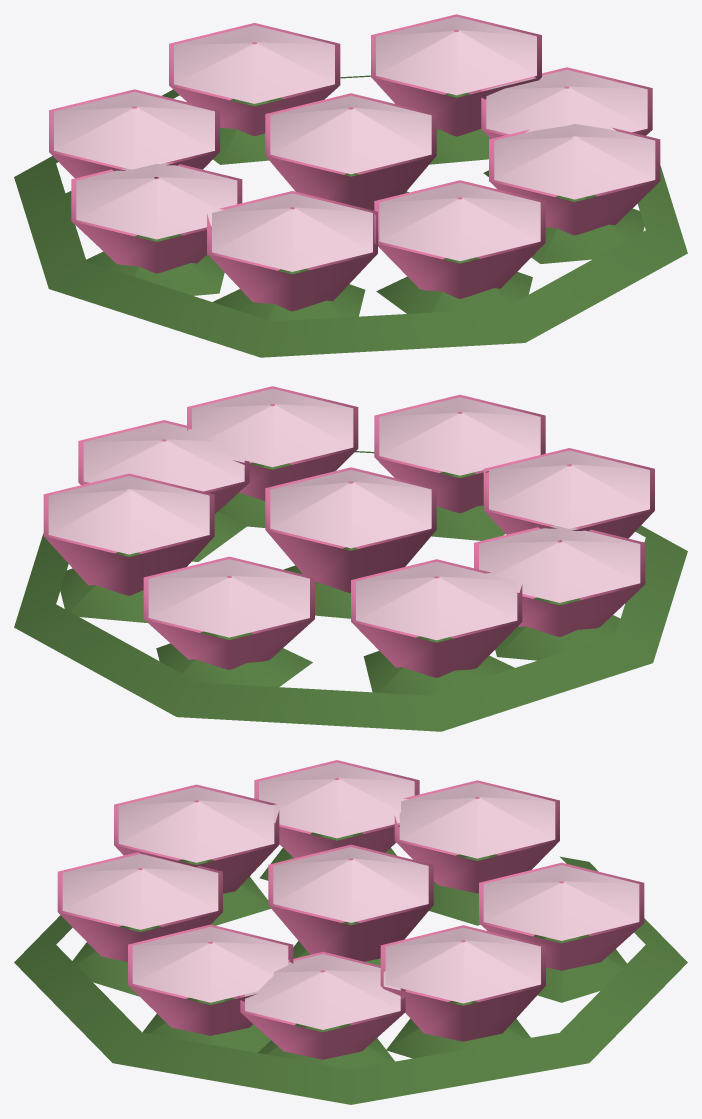
Rendered from flora_08_pink_grass_meadow_patch.glb.
3 views of the same model, one above another, from view 1: azimuth 30°, elevation 25°; view 2: azimuth 150°, elevation 25°; view 3: azimuth 270°, elevation 25° (orthographic). The views are drawn at different scales.
Visible parts, largest first — view 1: Morning_Dew_Snow_Tips, Basal_Meadow_Tufts, Pink_Muhly_Grass_Plumes; view 2: Morning_Dew_Snow_Tips, Basal_Meadow_Tufts, Pink_Muhly_Grass_Plumes; view 3: Morning_Dew_Snow_Tips, Basal_Meadow_Tufts, Pink_Muhly_Grass_Plumes.
Boxes of the visible parts, x1,y1,x2,y2 form: Morning_Dew_Snow_Tips: (54,16,655,271); Basal_Meadow_Tufts: (14,75,687,357); Pink_Muhly_Grass_Plumes: (49,14,660,311); Morning_Dew_Snow_Tips: (48,388,649,640); Basal_Meadow_Tufts: (14,451,687,731); Pink_Muhly_Grass_Plumes: (43,386,654,677); Morning_Dew_Snow_Tips: (62,762,639,1029); Basal_Meadow_Tufts: (14,832,687,1104); Pink_Muhly_Grass_Plumes: (57,760,644,1059).
Size of the model in its own units: 4.8 by 0.8112 by 4.8.
